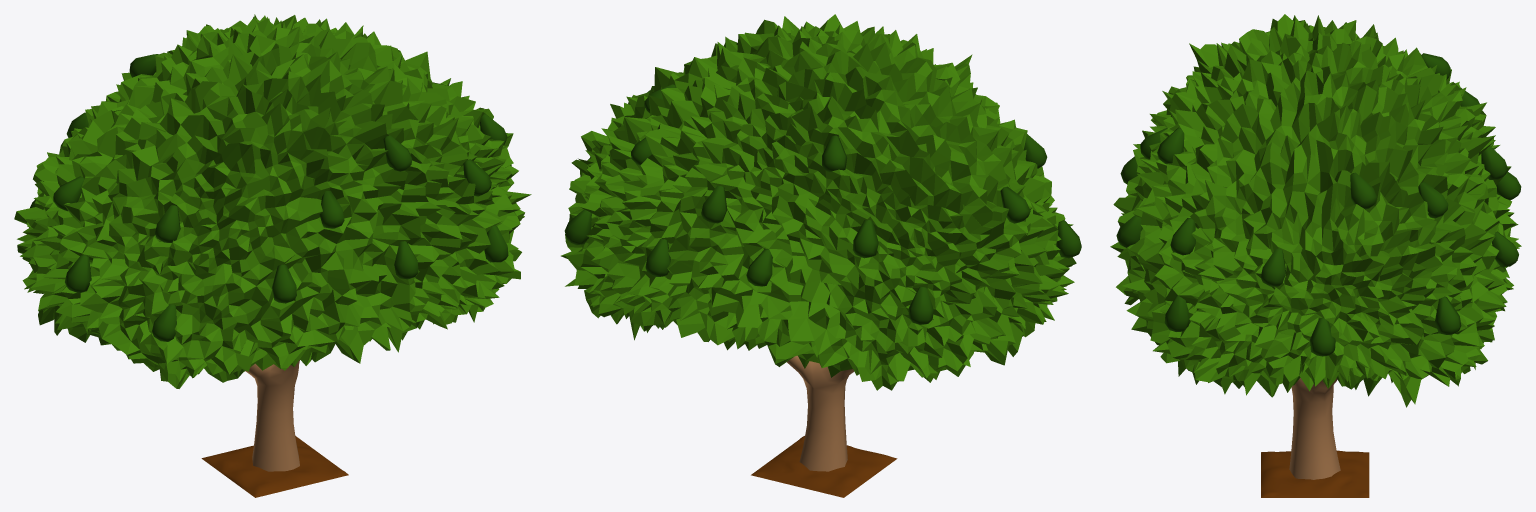
The model's file is avocado.glb.
3 renders of one model, left to right at view 1: azimuth 30°, elevation 25°; view 2: azimuth 150°, elevation 25°; view 3: azimuth 270°, elevation 25°, orthographic.
Parts seen in each view (by area): view 1: 5_nft_summer; view 2: 5_nft_summer; view 3: 5_nft_summer.
Boxes of the visible parts, <box> form: 5_nft_summer: <box>14,14,531,497</box>; 5_nft_summer: <box>561,14,1081,497</box>; 5_nft_summer: <box>1110,14,1521,497</box>.
Size of the model in its own units: 7.13 by 6.25 by 5.32.
